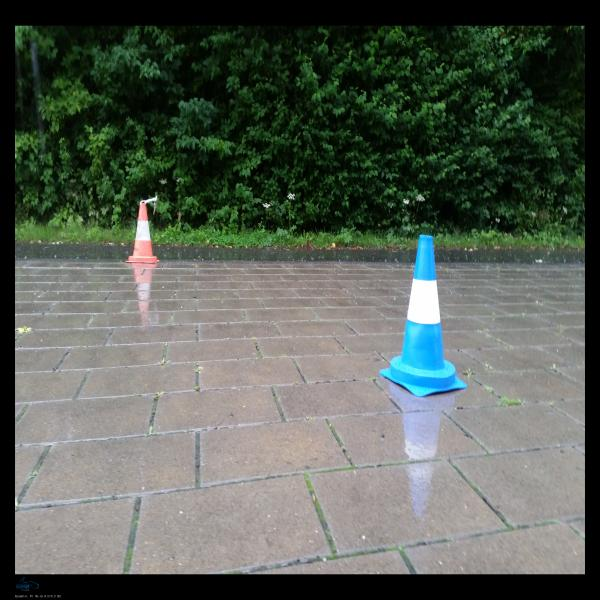blue_cone: (379, 234, 466, 397)
orange_cone: (126, 204, 160, 264)
